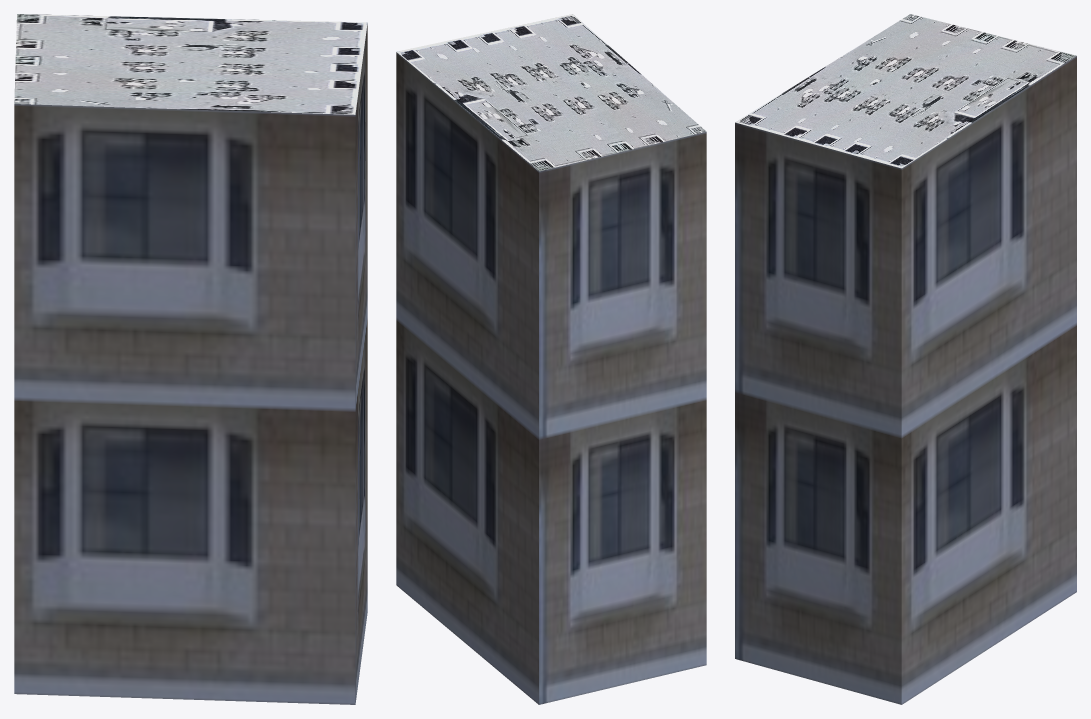
The model's file is ResTex__1147.fbx.
The picture shows the model from 3 angles, left to right: view 1: azimuth 30°, elevation 25°; view 2: azimuth 150°, elevation 25°; view 3: azimuth 270°, elevation 25°; orthographic projection. The views are drawn at different scales.
Visible parts, largest first — view 1: CityEngineMaterial_3_m, CityEngineMaterial_4_m; view 2: CityEngineMaterial_3_m, CityEngineMaterial_4_m; view 3: CityEngineMaterial_3_m, CityEngineMaterial_4_m.
Boxes of the visible parts, bbox=[...] form: CityEngineMaterial_3_m: bbox=[14, 23, 367, 704]; CityEngineMaterial_4_m: bbox=[14, 14, 367, 114]; CityEngineMaterial_3_m: bbox=[396, 52, 706, 704]; CityEngineMaterial_4_m: bbox=[396, 14, 706, 171]; CityEngineMaterial_3_m: bbox=[735, 56, 1076, 704]; CityEngineMaterial_4_m: bbox=[735, 14, 1076, 168].
Bounding box in the file's own units: 3.71 × 6 × 3.46.
Materials: 2 (2 with a texture image).
